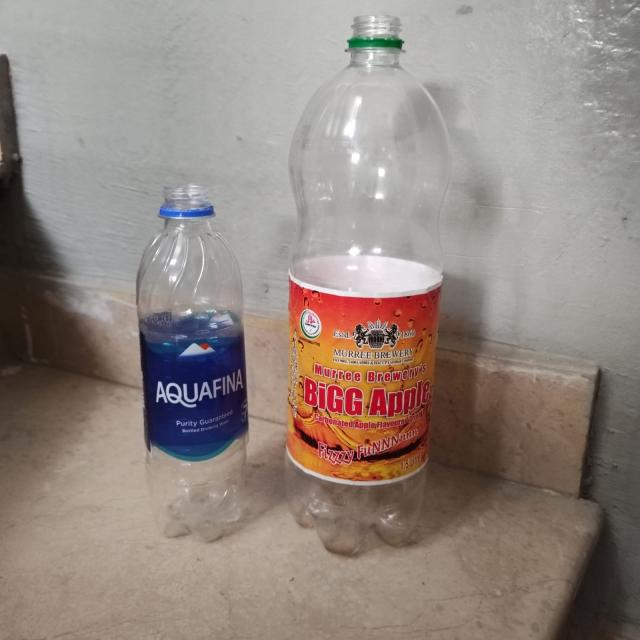bottle: (283, 11, 461, 558), (123, 175, 259, 541)
label: (290, 259, 440, 492), (131, 309, 253, 478)
